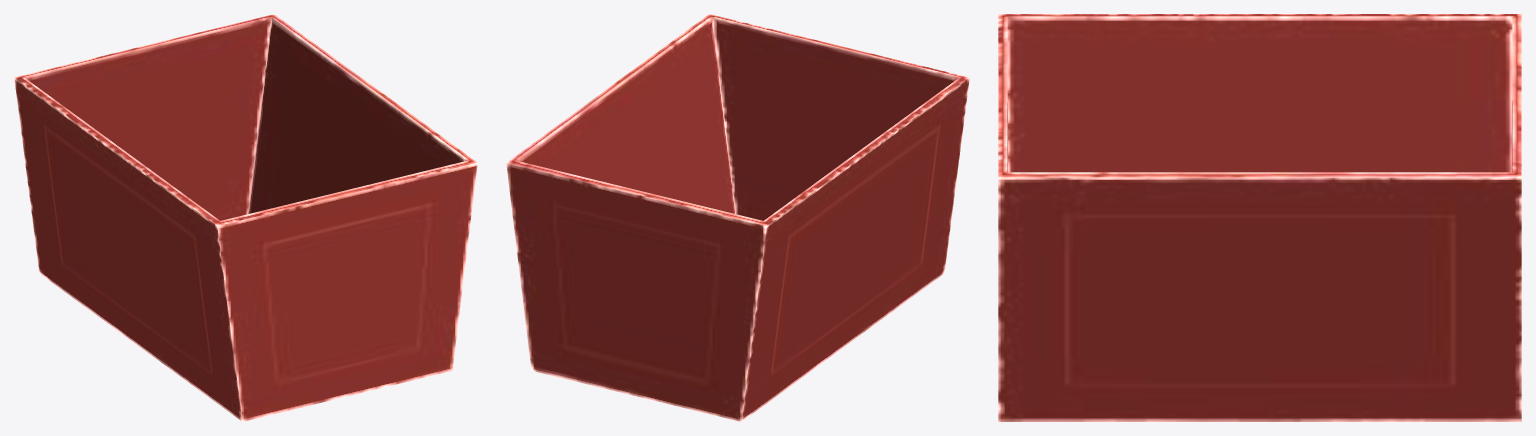
File: cart_low.glb
3 renders of one model, left to right at view 1: azimuth 30°, elevation 25°; view 2: azimuth 150°, elevation 25°; view 3: azimuth 270°, elevation 25°, orthographic. The views are drawn at different scales.
Parts seen in each view (by area): view 1: Cart_2.001; view 2: Cart_2.001; view 3: Cart_2.001.
Boxes of the visible parts, x1,y1,x2,y2 form: Cart_2.001: [14, 14, 477, 421]; Cart_2.001: [506, 14, 969, 421]; Cart_2.001: [998, 14, 1521, 421].
Bounding box in the file's own units: 1 × 0.7443 × 1.35.
Materials: 1 (1 with a texture image).
